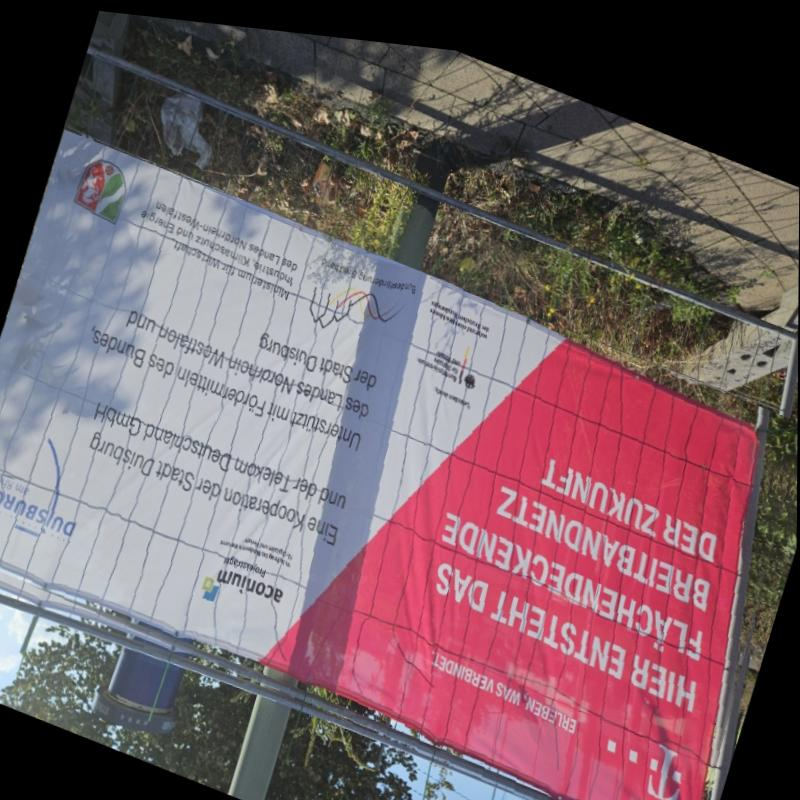Banner: (0, 127, 768, 800)
